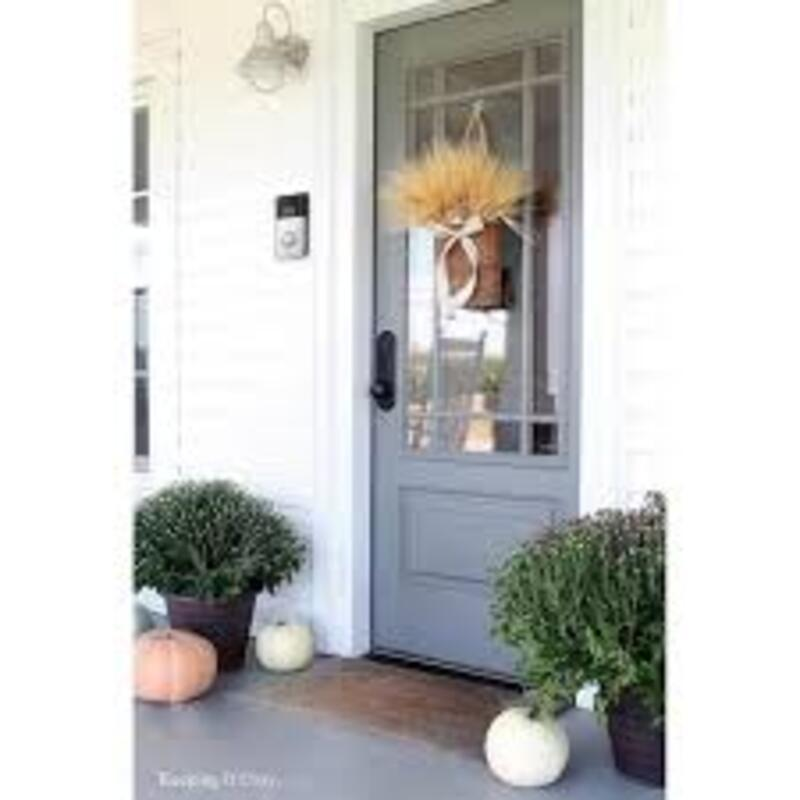doorbell: (269, 185, 313, 265)
